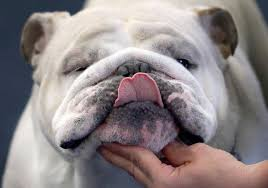Bulldog: (17, 3, 265, 143)
